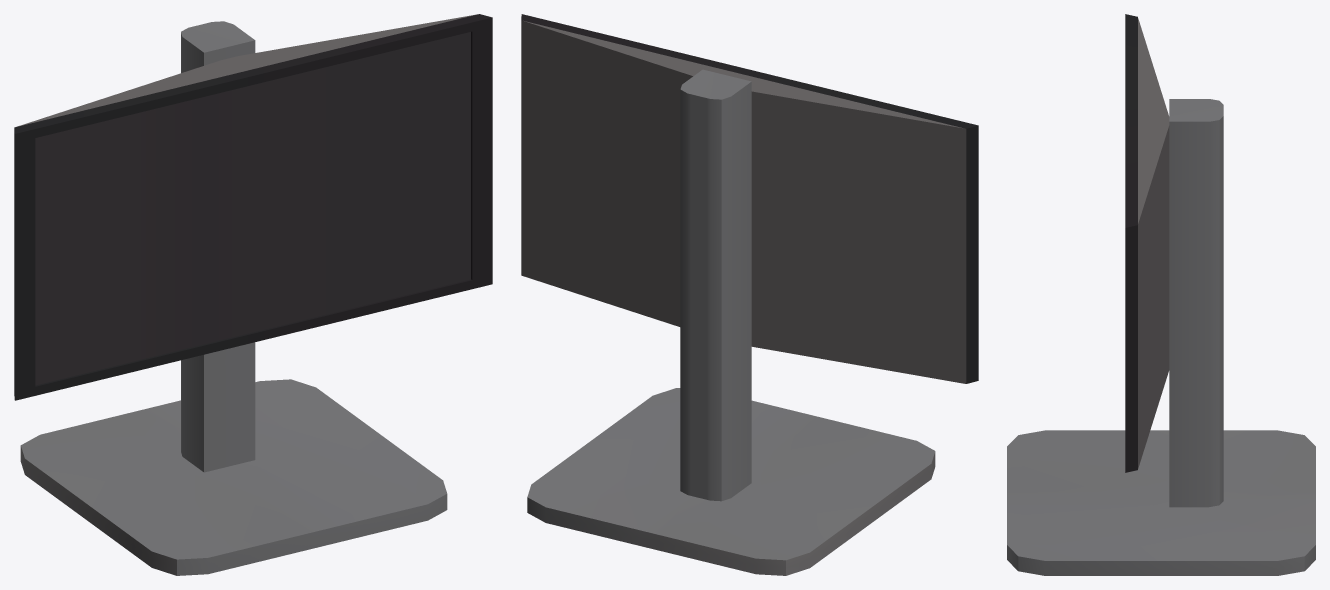
File: computer.fbx
3 views of the same model, side by side, from view 1: azimuth 30°, elevation 25°; view 2: azimuth 150°, elevation 25°; view 3: azimuth 270°, elevation 25° (orthographic). The views are drawn at different scales.
Parts seen in each view (by area): view 1: computer; view 2: computer; view 3: computer.
Boxes of the visible parts, x1=… form: computer: x1=14, y1=14, x2=492, y2=575; computer: x1=521, y1=14, x2=978, y2=575; computer: x1=1007, y1=14, x2=1315, y2=575.
Bounding box in the file's own units: 2658 × 2318 × 1620.
